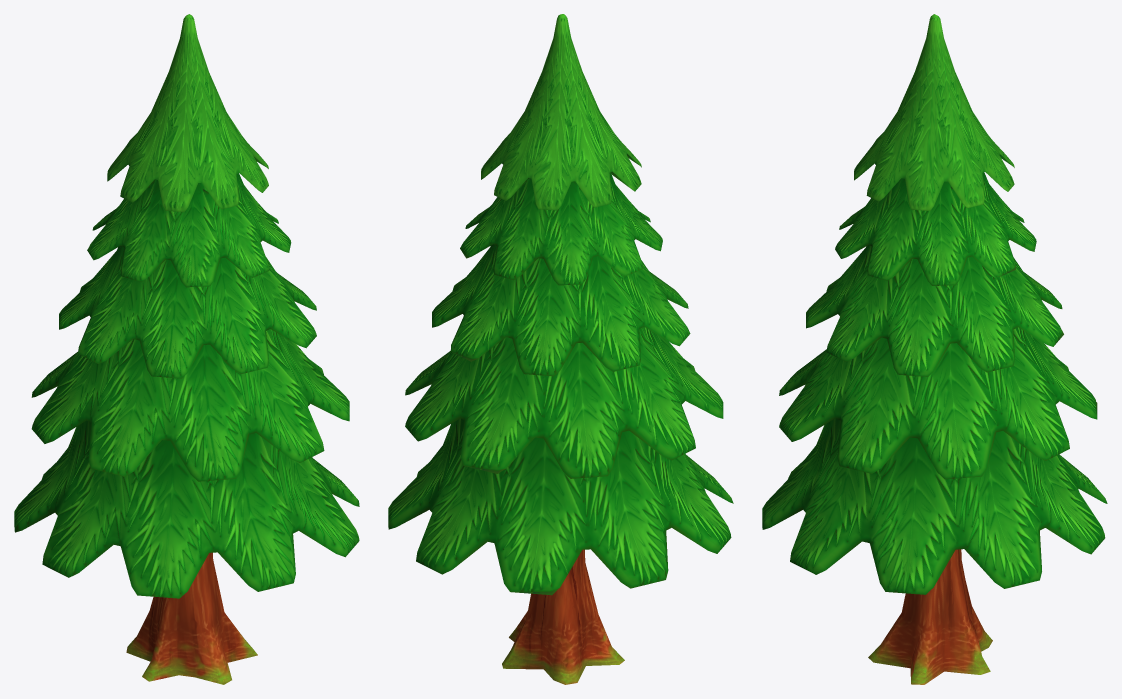
Rendered from Tree05.FBX.
The picture shows the model from 3 angles, left to right: view 1: azimuth 30°, elevation 25°; view 2: azimuth 150°, elevation 25°; view 3: azimuth 270°, elevation 25°; orthographic projection.
Parts seen in each view (by area): view 1: Tree05; view 2: Tree05; view 3: Tree05.
Boxes of the visible parts, left/top/right/bottom form: Tree05: left=14, top=14, right=359, bottom=684; Tree05: left=388, top=14, right=733, bottom=684; Tree05: left=762, top=14, right=1107, bottom=684.
Size of what is drawn, in the model's own units: 3.72 by 7.58 by 3.7.
